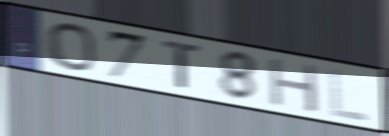7: (102, 28, 151, 80)
8: (216, 49, 260, 102)
H: (267, 55, 321, 115)
L: (328, 66, 372, 125)
O: (43, 21, 98, 73)
T: (161, 38, 204, 91)
